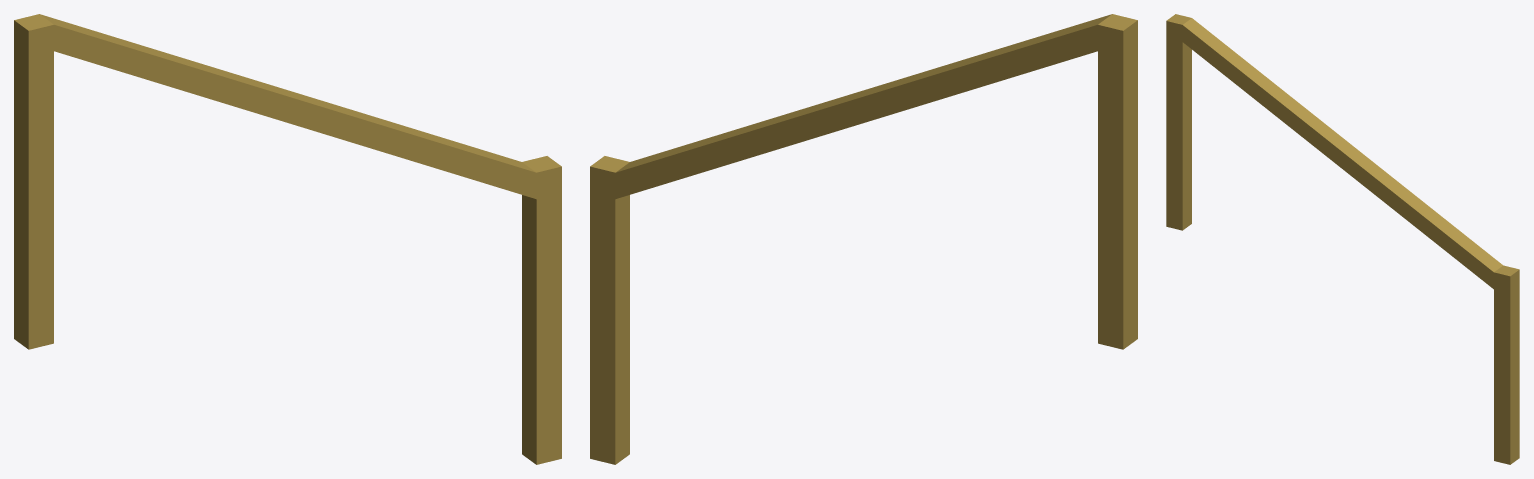
File: YellowMetalWallSmallSlopedGuardRail2.fbx
3 views of the same model, side by side, from view 1: azimuth 30°, elevation 25°; view 2: azimuth 150°, elevation 25°; view 3: azimuth 330°, elevation 25° (orthographic). The views are drawn at different scales.
Visible parts, largest first — view 1: YellowMetalWallSmallSlopedGuardRail2; view 2: YellowMetalWallSmallSlopedGuardRail2; view 3: YellowMetalWallSmallSlopedGuardRail2.
Boxes of the visible parts, x1,y1,x2,y2 form: YellowMetalWallSmallSlopedGuardRail2: (14, 14, 561, 464); YellowMetalWallSmallSlopedGuardRail2: (590, 14, 1137, 464); YellowMetalWallSmallSlopedGuardRail2: (1166, 14, 1519, 464).
Bounding box in the file's own units: 210 × 210 × 10.
